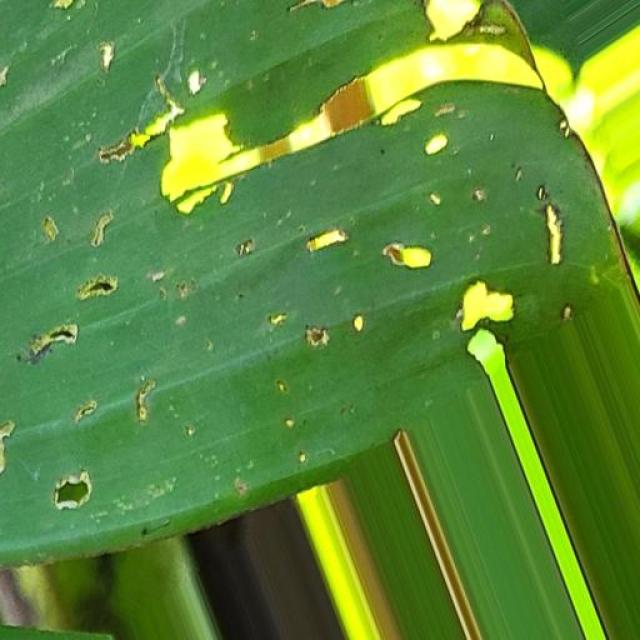Black_rot: (11, 3, 625, 564)
